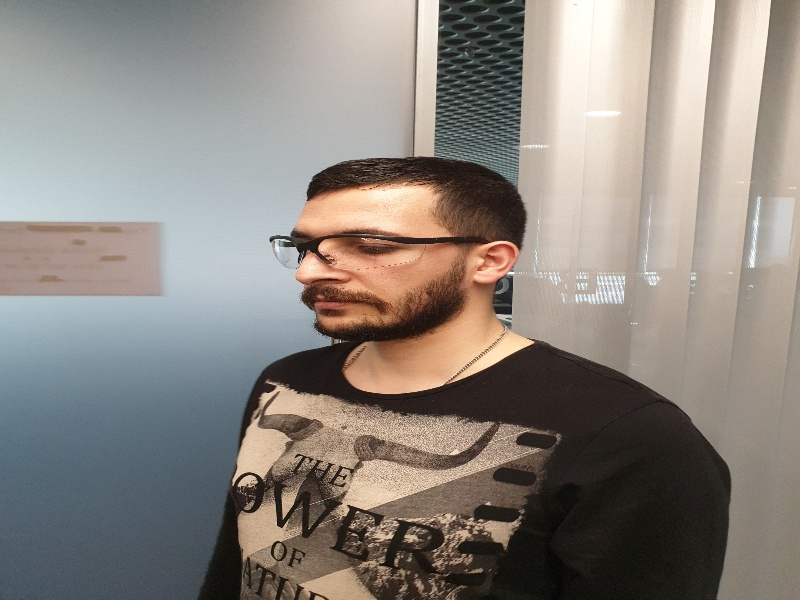Gozluk: (270, 234, 489, 272)
